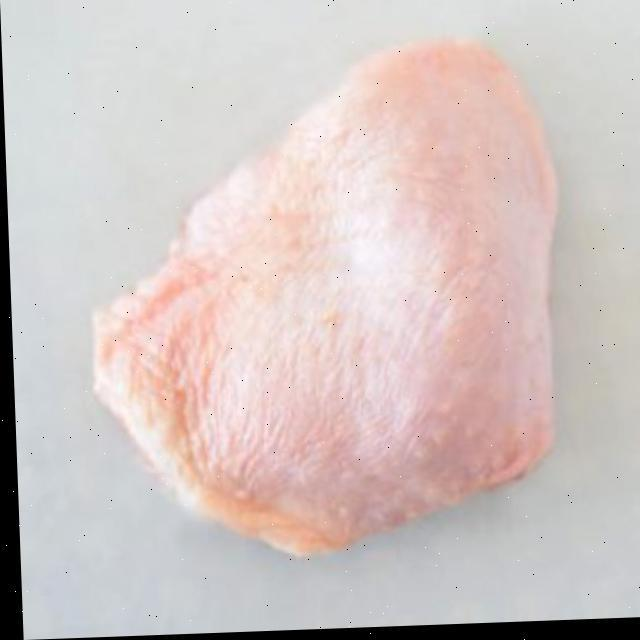thigh: (30, 0, 612, 629)
